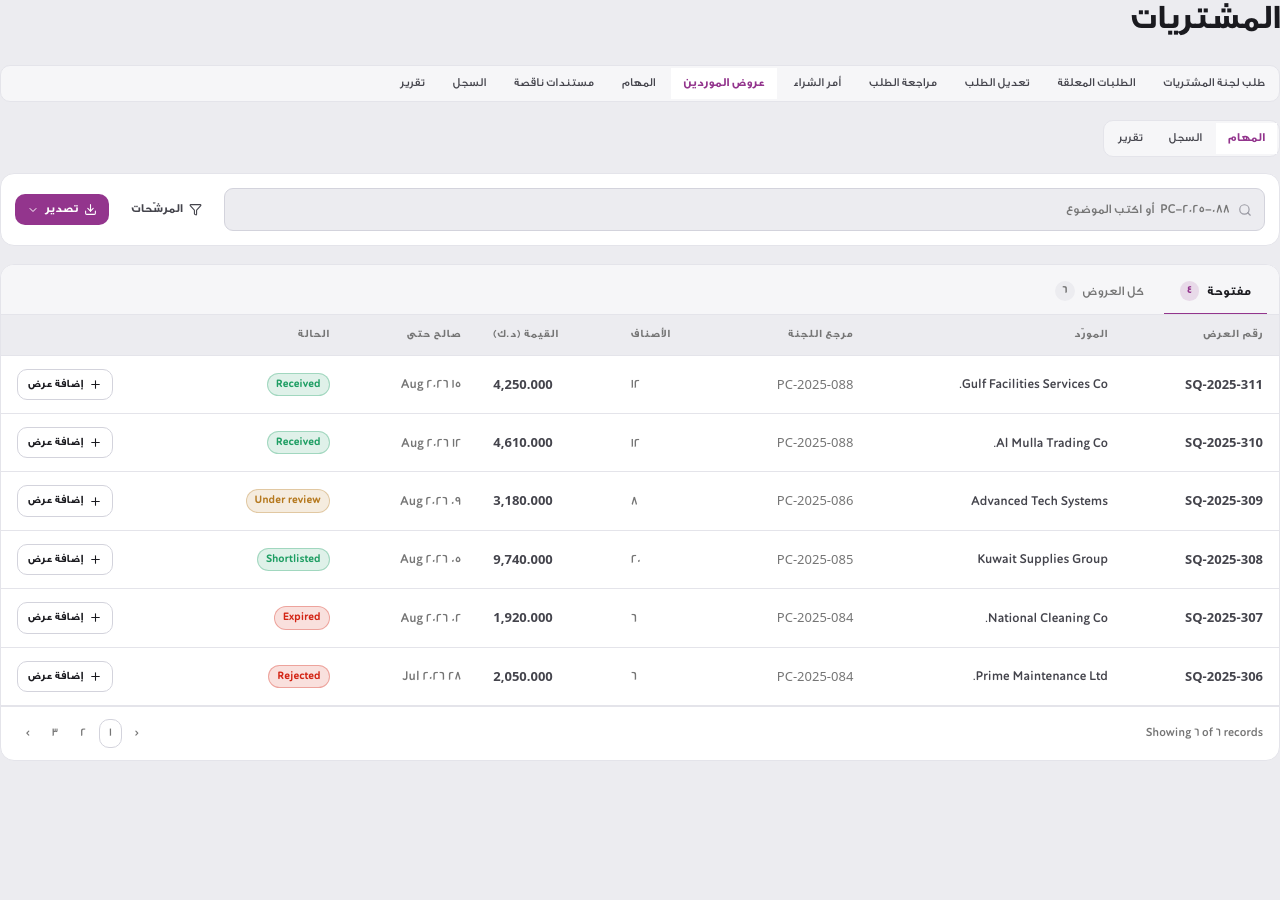
M6.5 Supplier Quotations › renders translated Arabic quotation navigation and builder in RTL
What coordinates should you click on to do the following:
click the button "إضافة عرض" in the row of "SQ-2025-311"
I would click on:
 (65, 384)
Its box is [17, 369, 113, 400].
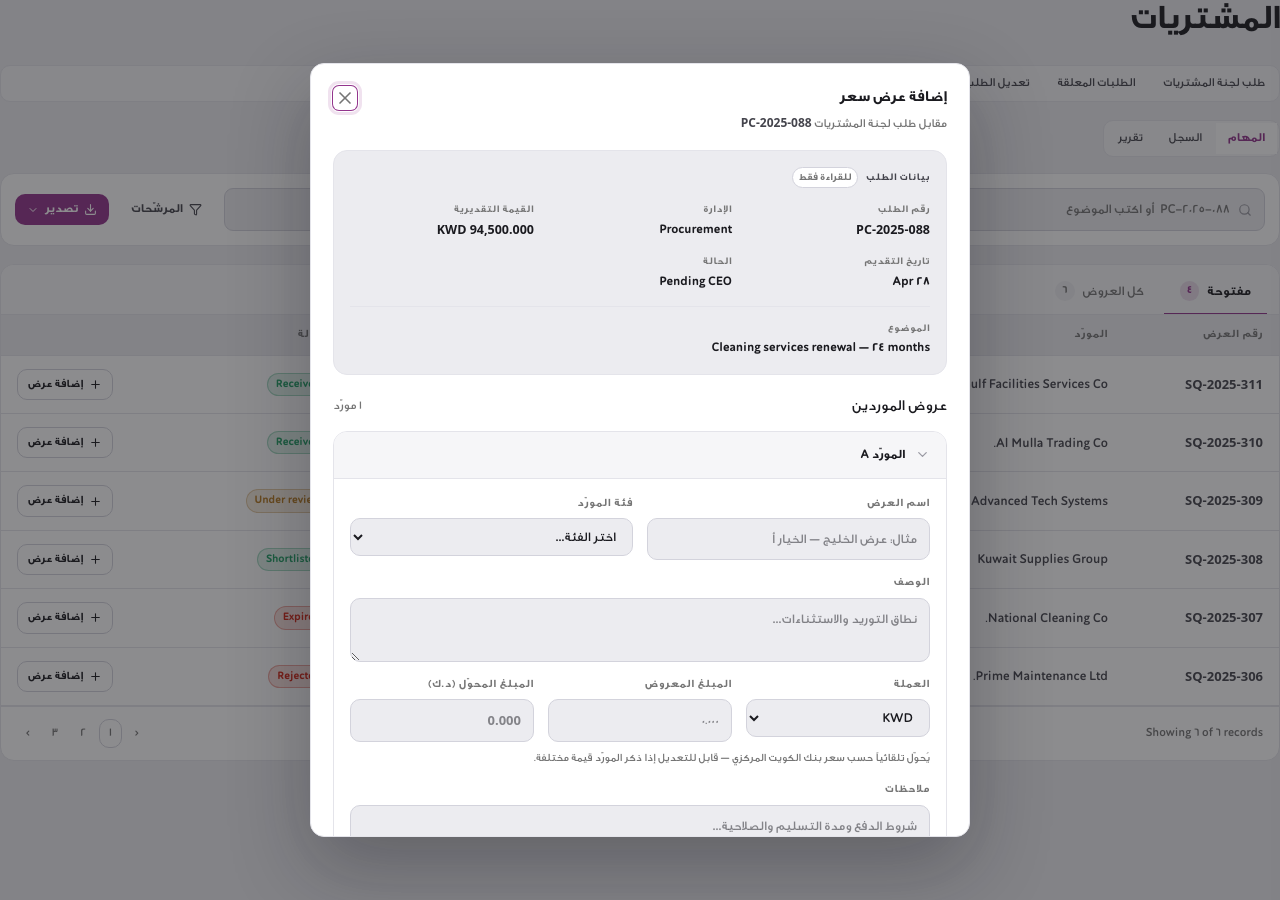
Expected: the text "إضافة عرض سعر" is shown, [839, 89, 947, 105]
Expected: the button "المورّد A" is shown, [350, 445, 930, 465]
